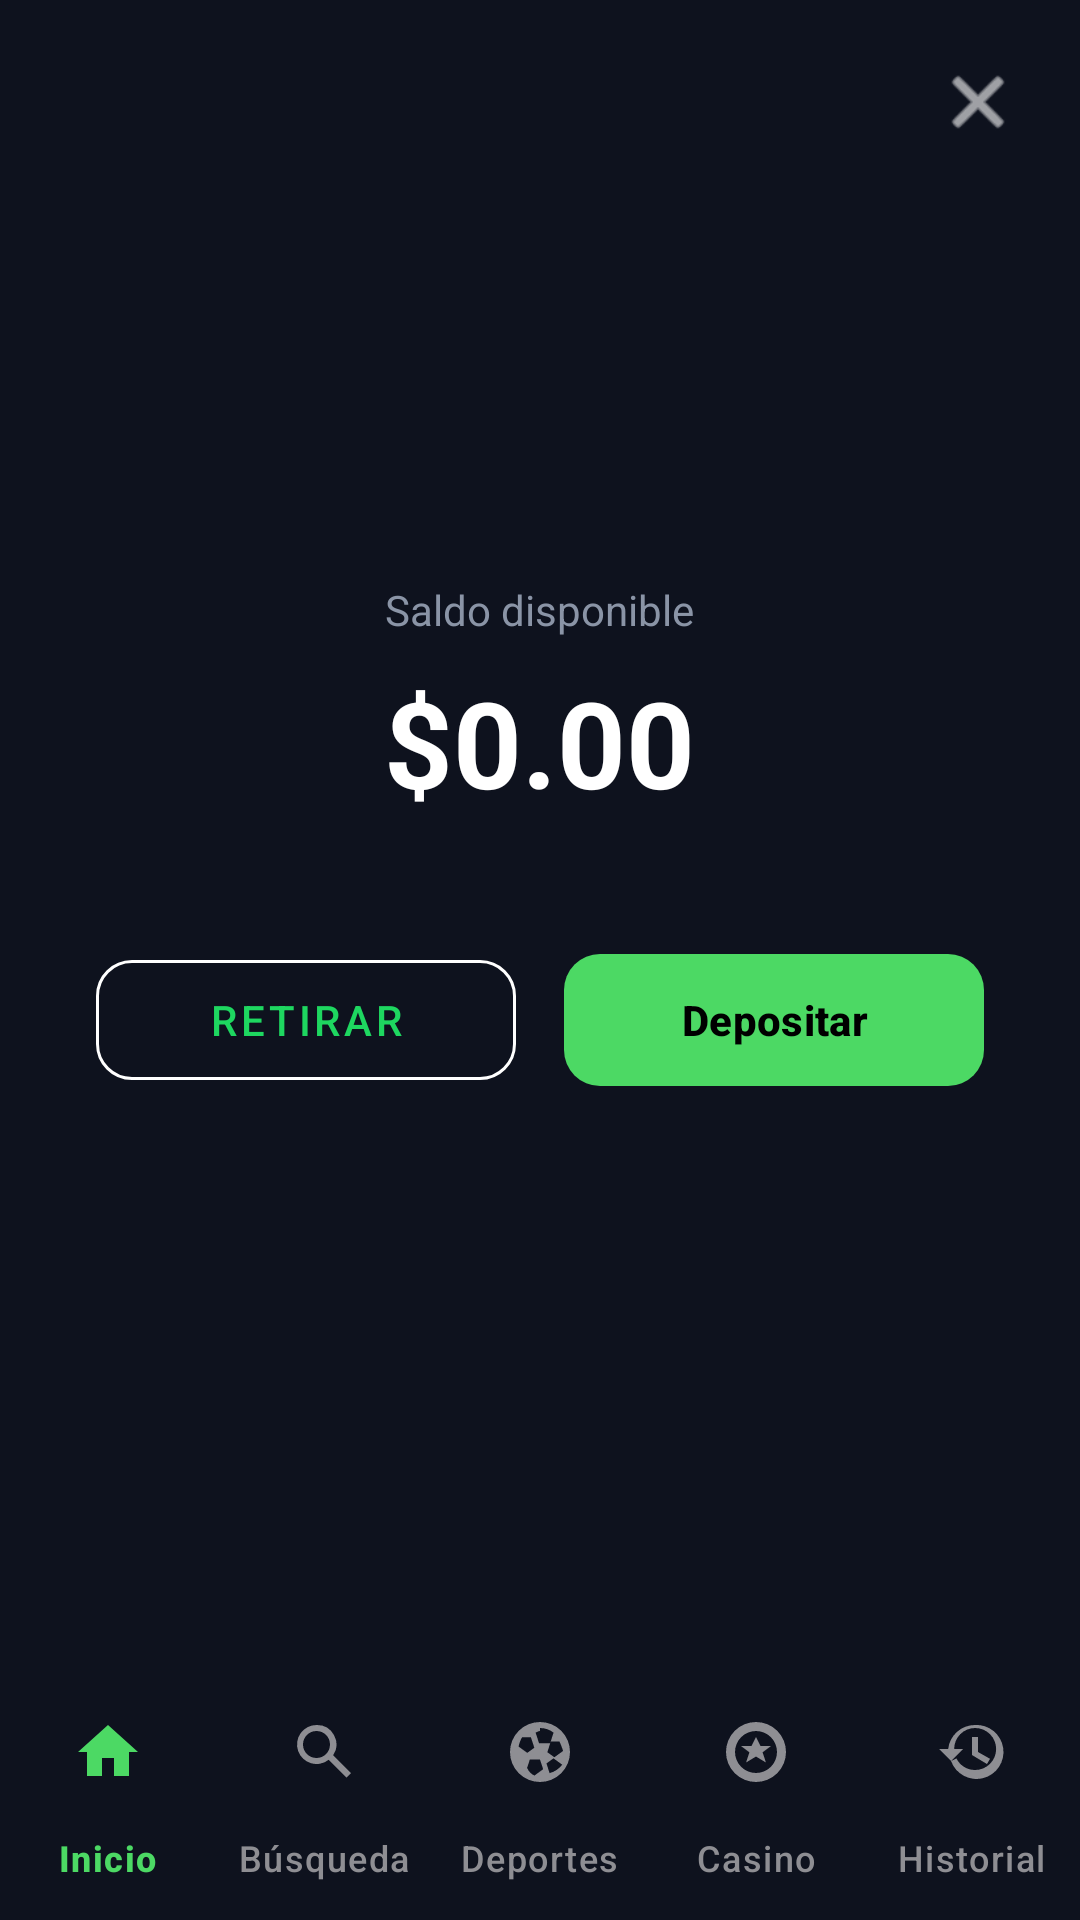

Named icons in this screenshot (1080*1920) and their bounding boxes, (x1, y1, x2, y2):
close clear cancel: (952, 76, 1004, 128)
